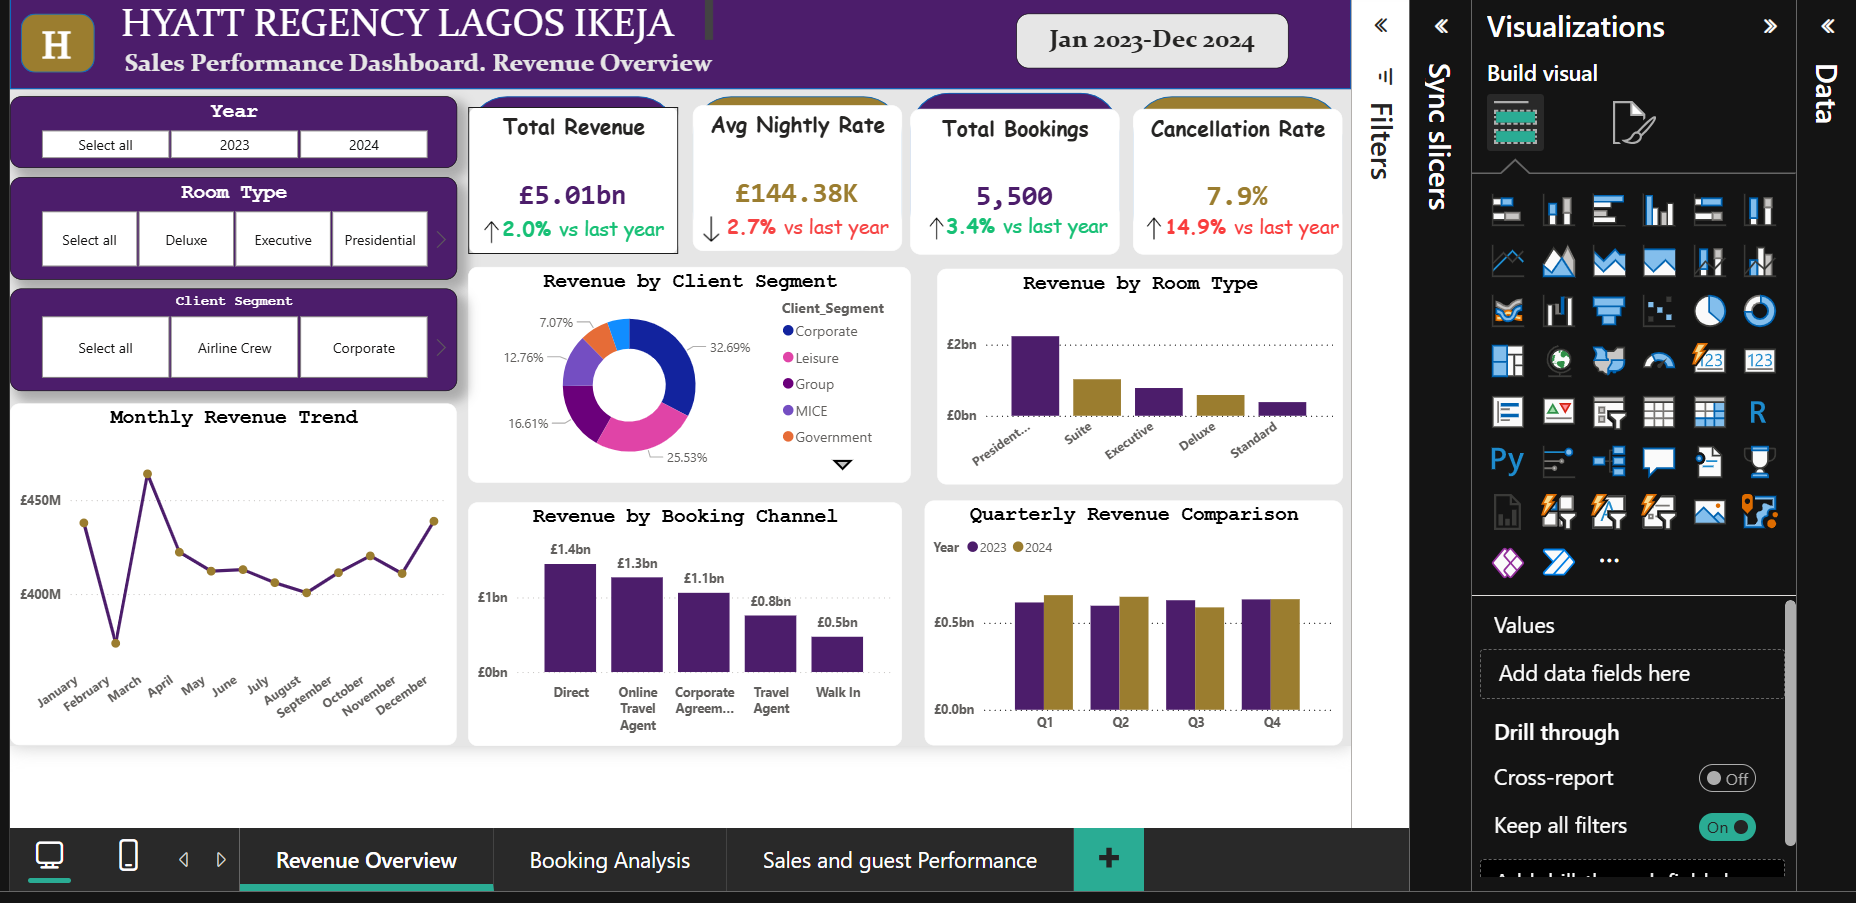

This screenshot's page, from the dashboard's own definition file:
{"tool":"powerbi","page":{"name":"Revenue Overview","canvas":[1280,720],"ordinal":0},"visuals":[{"type":"shape","box":[0,0,1280.3,92.7],"z":0},{"type":"slicer","title":"Year","fields":{"Values":["Hyatt_Ikeja_Hotel_Booking_Data.Year"]},"box":[0,99.5,427.1,68.6],"z":1000},{"type":"slicer","title":"Room Type","fields":{"Values":["Hyatt_Ikeja_Hotel_Booking_Data.Room_Type"]},"box":[0,176.7,427.1,97.8],"z":2000},{"type":"shape","box":[437.5,98.8,199.6,149.2],"z":3000},{"type":"shape","box":[1072.6,98.8,199.6,149.2],"z":4000},{"type":"shape","box":[858.9,96.8,199.6,149.2],"z":5000},{"type":"shape","box":[651.2,98.8,199.6,147.2],"z":6000},{"type":"card","title":"Total Revenue","fields":{"Values":["Measures (2).Total Revenue"]},"box":[436.9,110.1,200.7,140.3],"z":7000},{"type":"card","title":"Avg Nightly Rate","fields":{"Values":["Measures (2).Average Nightly Rate"]},"box":[651.2,108.9,199.6,139.1],"z":8000},{"type":"card","title":"Total Bookings","fields":{"Values":["Measures (2).Total Booking"]},"box":[858.9,110.9,199.6,139.1],"z":9000},{"type":"card","title":"Cancellation Rate","fields":{"Values":["Measures (2).% Cancellation"]},"box":[1072.6,110.9,199.6,139.1],"z":10000},{"type":"shape","box":[10.1,20.2,70.6,56.5],"z":11000},{"type":"textbox","box":[26.2,20.2,46.4,66.5],"z":12000},{"type":"donutChart","title":"Revenue by Client Segment","fields":{"Category":["Hyatt_Ikeja_Hotel_Booking_Data.Client_Segment"],"Y":["Measures (2).Total Revenue"]},"box":[436.9,262.8,422.7,206],"z":13000},{"type":"clusteredColumnChart","title":"Revenue by Room Type","fields":{"Y":["Measures (2).Total Revenue"],"Category":["Hyatt_Ikeja_Hotel_Booking_Data.Room_Type"]},"box":[884.4,264.6,387.2,206],"z":14000},{"type":"clusteredColumnChart","title":"Revenue by Booking Channel","fields":{"Category":["Hyatt_Ikeja_Hotel_Booking_Data.Booking_Channel"],"Y":["Measures (2).Total Revenue"]},"box":[436.9,486.6,413.8,232.6],"z":15000},{"type":"clusteredColumnChart","title":"Quarterly Revenue Comparison","fields":{"Category":["Hyatt_Ikeja_Hotel_Booking_Data.Quarter"],"Y":["Measures (2).Total Revenue"],"Series":["Hyatt_Ikeja_Hotel_Booking_Data.Year"]},"box":[873,486,399,234],"z":16000},{"type":"slicer","title":"Client Segment","fields":{"Values":["Hyatt_Ikeja_Hotel_Booking_Data.Client_Segment"]},"box":[0,283,427.1,97.8],"z":17000},{"type":"textbox","box":[100.8,2,574.6,52.4],"z":18000},{"type":"textbox","box":[104.8,48.4,574.6,48.4],"z":19000},{"type":"textbox","box":[959.7,20.2,260.1,52.4],"z":20000},{"type":"image","box":[436.9,218.4,44.4,23.1],"z":21000},{"type":"textbox","box":[465.3,207.8,182.9,42.6],"z":22000},{"type":"textbox","box":[678.4,206,182.9,42.6],"z":23000},{"type":"image","box":[852.4,214.9,63.9,23.1],"z":24000},{"type":"textbox","box":[888,204.2,182.9,42.6],"z":25000},{"type":"image","box":[1060.2,214.9,63.9,23.1],"z":26000},{"type":"textbox","box":[1097.5,206,182.9,42.6],"z":27000},{"type":"image","box":[655.3,209.6,28.4,33.7],"z":28000},{"type":"lineChart","title":"Monthly Revenue Trend","fields":{"Y":["Measures (2).Total Revenue"],"Category":["Hyatt_Ikeja_Hotel_Booking_Data.Month"]},"box":[0,392.3,426.5,326.2],"z":29000}]}

Visuals, with their boxes on the page's 1280x720 design canvas (x1, y1, x2, y2). These are canvas units, not pixel positions in the 1856x903 screenshot, which may show the page scaled, cropped or inside an application window:
shape: <bbox>0, 0, 1280, 93</bbox>
"Year" slicer: <bbox>0, 100, 427, 168</bbox>
"Room Type" slicer: <bbox>0, 177, 427, 274</bbox>
shape: <bbox>438, 99, 637, 248</bbox>
shape: <bbox>1073, 99, 1272, 248</bbox>
shape: <bbox>859, 97, 1058, 246</bbox>
shape: <bbox>651, 99, 851, 246</bbox>
"Total Revenue" card: <bbox>437, 110, 638, 250</bbox>
"Avg Nightly Rate" card: <bbox>651, 109, 851, 248</bbox>
"Total Bookings" card: <bbox>859, 111, 1058, 250</bbox>
"Cancellation Rate" card: <bbox>1073, 111, 1272, 250</bbox>
shape: <bbox>10, 20, 81, 77</bbox>
textbox: <bbox>26, 20, 73, 87</bbox>
"Revenue by Client Segment" donutChart: <bbox>437, 263, 860, 469</bbox>
"Revenue by Room Type" clusteredColumnChart: <bbox>884, 265, 1272, 471</bbox>
"Revenue by Booking Channel" clusteredColumnChart: <bbox>437, 487, 851, 719</bbox>
"Quarterly Revenue Comparison" clusteredColumnChart: <bbox>873, 486, 1272, 720</bbox>
"Client Segment" slicer: <bbox>0, 283, 427, 381</bbox>
textbox: <bbox>101, 2, 675, 54</bbox>
textbox: <bbox>105, 48, 679, 97</bbox>
textbox: <bbox>960, 20, 1220, 73</bbox>
image: <bbox>437, 218, 481, 242</bbox>
textbox: <bbox>465, 208, 648, 250</bbox>
textbox: <bbox>678, 206, 861, 249</bbox>
image: <bbox>852, 215, 916, 238</bbox>
textbox: <bbox>888, 204, 1071, 247</bbox>
image: <bbox>1060, 215, 1124, 238</bbox>
textbox: <bbox>1098, 206, 1280, 249</bbox>
image: <bbox>655, 210, 684, 243</bbox>
"Monthly Revenue Trend" lineChart: <bbox>0, 392, 426, 718</bbox>
